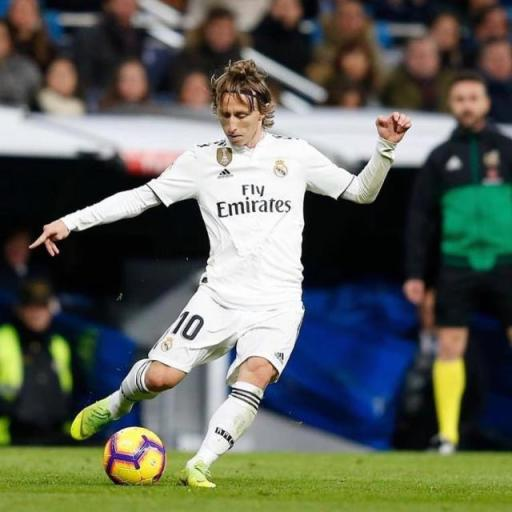Adidas: (215, 167, 236, 179)
Emirates: (215, 184, 293, 218)
